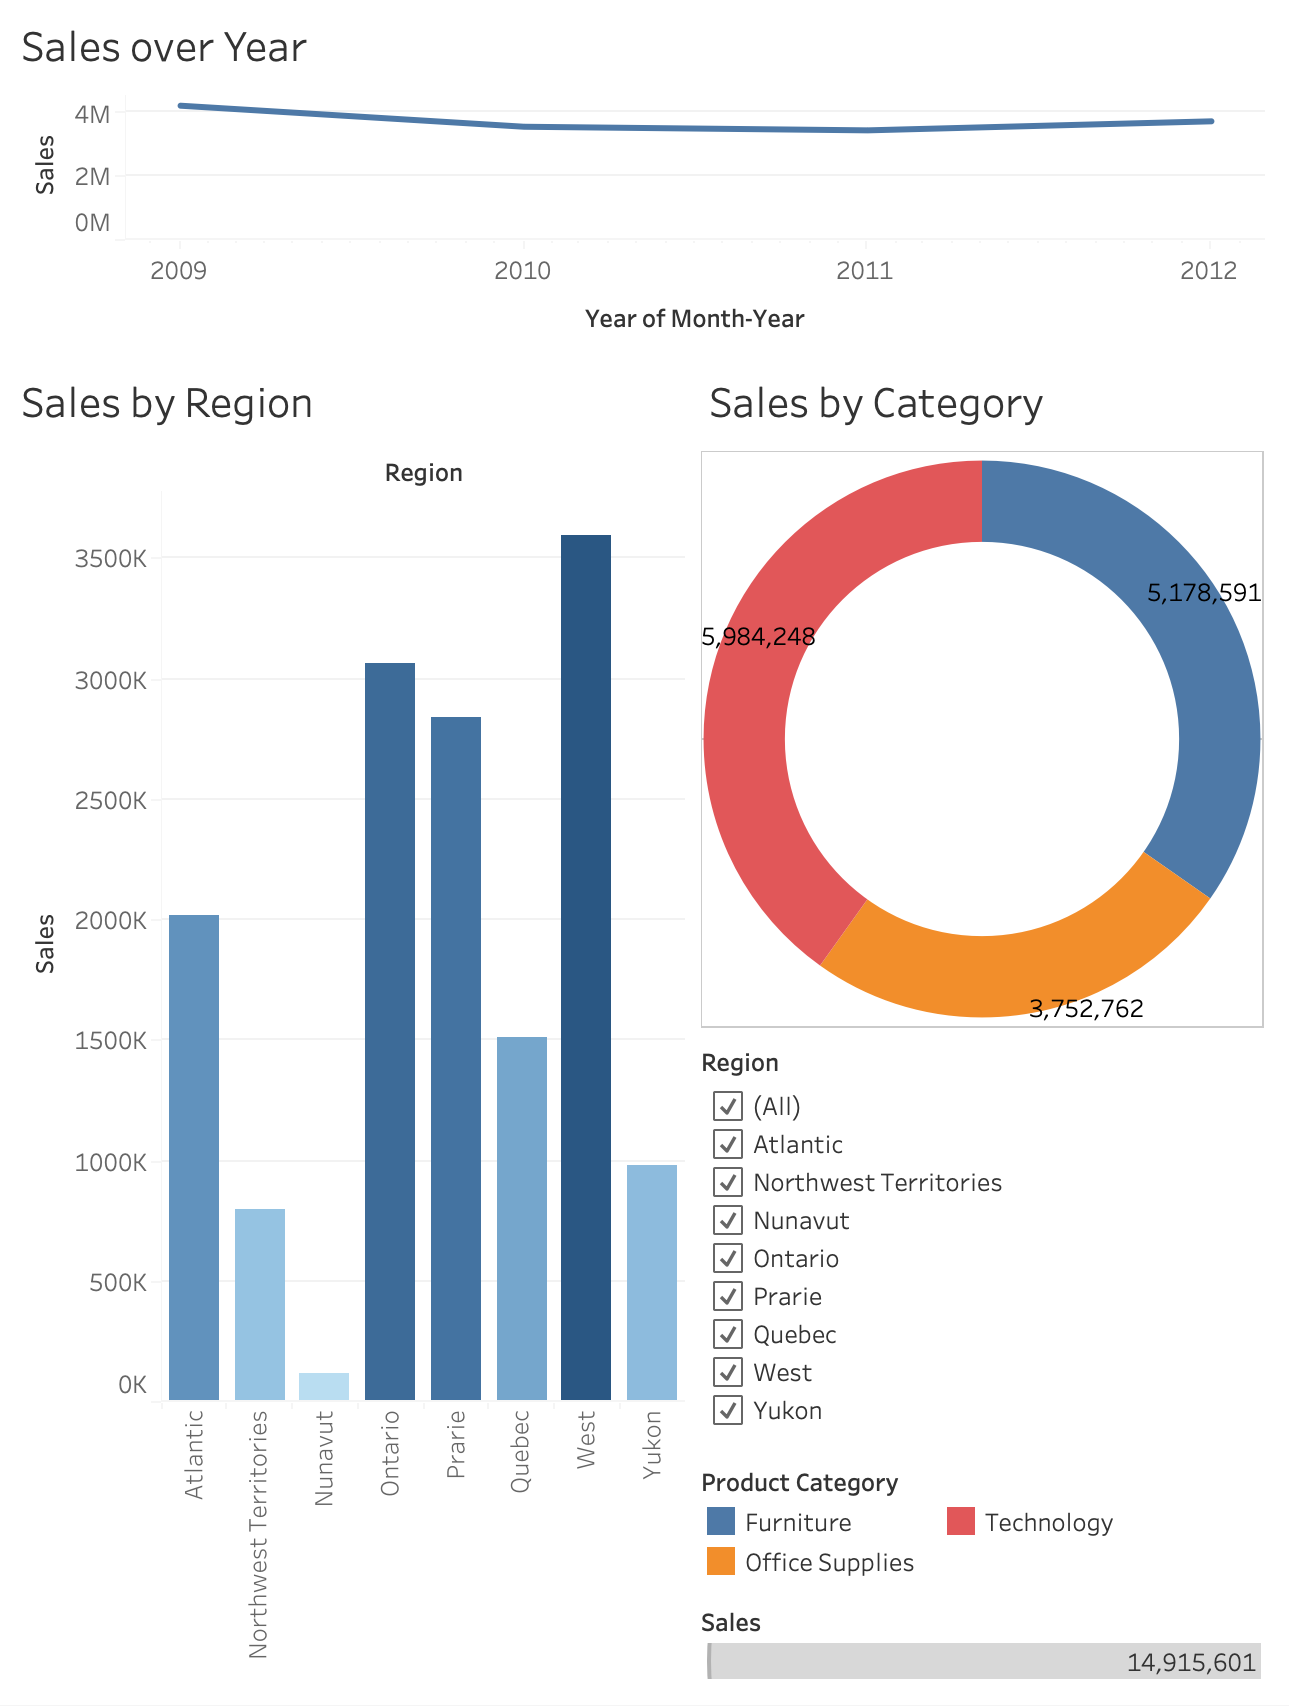

Layout of this report page (visuals, bound fields, positions):
{"tool":"tableau","page":{"name":"Dashboard","canvas":[650,860],"ordinal":0},"visuals":[{"type":"worksheet","title":"Sales over Months","mark":"Automatic","rows":["Sales"],"cols":["Calculation_825425429167857664"],"box":[8,8,634,178]},{"type":"worksheet","title":"Sales by Region","mark":"Bar","rows":["Sales"],"cols":["Region"],"box":[8,186,344,666]},{"type":"worksheet","title":"Sales by Category","mark":"Pie","rows":["Calculation_825425429174792195","Calculation_825425429174816773"],"box":[352,186,290,364]},{"type":"filter","title":"Sales by Region","param":"[federated.0afq2db1fgc02y16lez9t045kdkc].[none:Region:nk]","box":[352,550,290,210]},{"type":"legend","title":"Sales by Category","param":"[federated.0afq2db1fgc02y16lez9t045kdkc].[none:Product Category:nk]","box":[352,760,290,70]},{"type":"legend","title":"Sales by Category","param":"[federated.0afq2db1fgc02y16lez9t045kdkc].[sum:Sales:qk]","box":[352,830,290,22]}]}

Visuals, with their boxes in screenshot pixels (x1, y1, x2, y2), scaled from the page's 650x860 canvas onto the 1289x1706 screenshot:
"Sales over Months" worksheet: l=16, t=16, r=1273, b=369
"Sales by Region" worksheet (Bar marks): l=16, t=369, r=698, b=1690
"Sales by Category" worksheet (Pie marks): l=698, t=369, r=1273, b=1091
"Sales by Region" filter: l=698, t=1091, r=1273, b=1508
"Sales by Category" legend: l=698, t=1508, r=1273, b=1646
"Sales by Category" legend: l=698, t=1646, r=1273, b=1690
